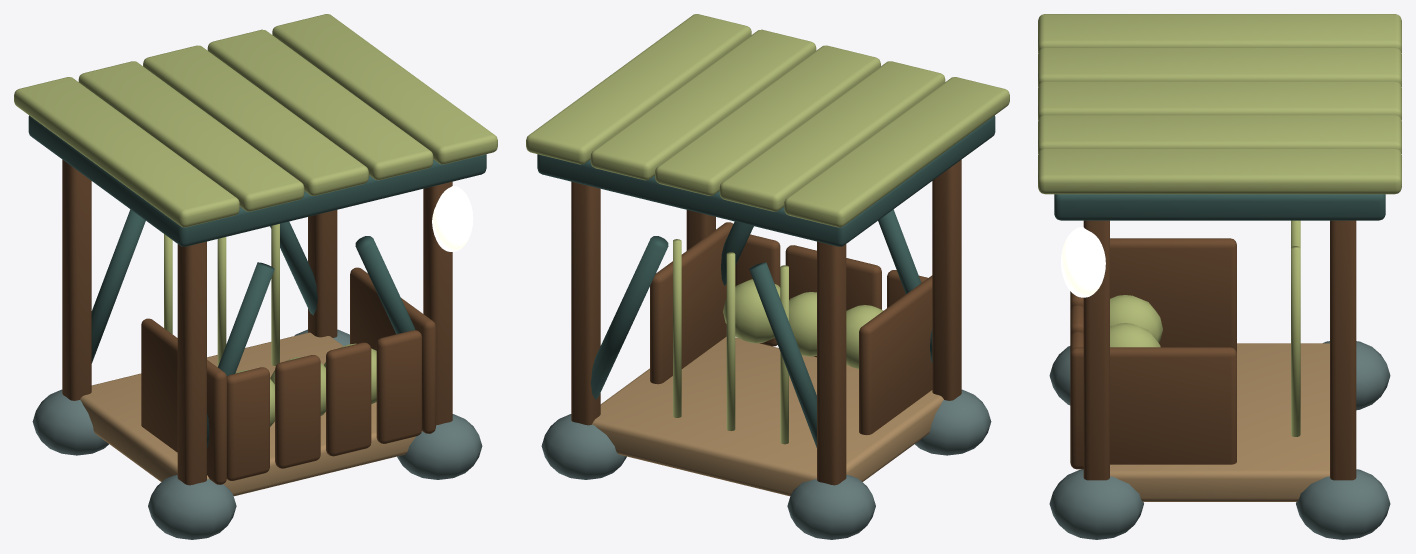
File: extractor_fiber.glb
3 renders of one model, left to right at view 1: azimuth 30°, elevation 25°; view 2: azimuth 150°, elevation 25°; view 3: azimuth 270°, elevation 25°, orthographic. The views are drawn at different scales.
Parts seen in each view (by area): view 1: extractor_fiber_part_0; view 2: extractor_fiber_part_0; view 3: extractor_fiber_part_0.
Boxes of the visible parts, x1,y1,x2,y2 form: extractor_fiber_part_0: (14,14,497,539); extractor_fiber_part_0: (526,14,1009,539); extractor_fiber_part_0: (1038,14,1401,539).
Bounding box in the file's own units: 2.1 × 2.18 × 1.92.
